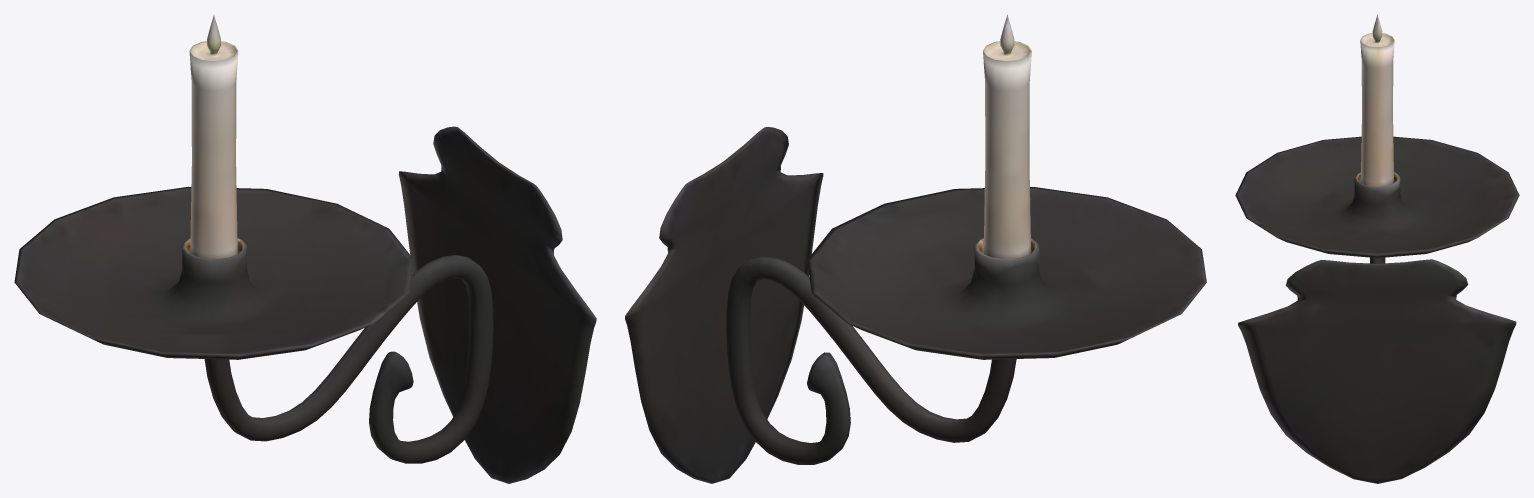
File: sconce1.glb
3 renders of one model, left to right at view 1: azimuth 30°, elevation 25°; view 2: azimuth 150°, elevation 25°; view 3: azimuth 270°, elevation 25°, orthographic. The views are drawn at different scales.
Visible parts, largest first — view 1: Object_4; view 2: Object_4; view 3: Object_4.
Part boxes in pixels (box(x1,y1,x2,y2)): Object_4: box(14, 15, 596, 483); Object_4: box(625, 14, 1206, 483); Object_4: box(1235, 14, 1519, 483).
Size of the model in its own units: 2.38 by 2.62 by 1.8.
Materials: 1 (1 with a texture image).
